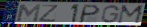1: (70, 3, 81, 24)
G: (100, 5, 121, 24)
M: (116, 5, 145, 25), (16, 3, 43, 23)
P: (77, 4, 102, 24)
Z: (38, 4, 60, 22)
